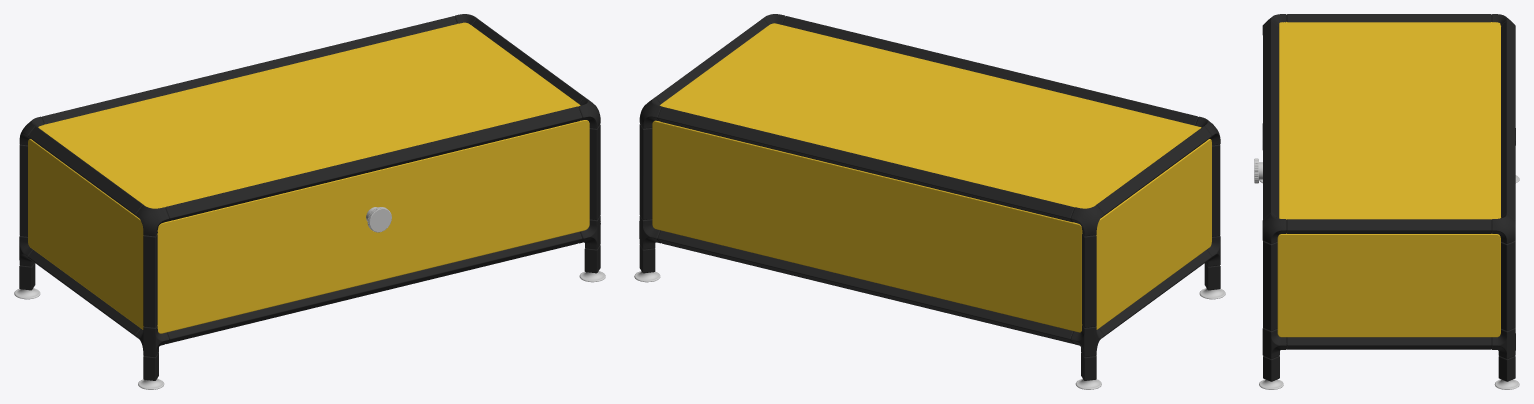
3 views of the same model, side by side, from view 1: azimuth 30°, elevation 25°; view 2: azimuth 150°, elevation 25°; view 3: azimuth 270°, elevation 25° (orthographic). The views are drawn at different scales.
Parts seen in each view (by area): view 1: 729x329x154; view 2: 729x329x154; view 3: 729x329x154.
Boxes of the visible parts, bbox=[...] form: 729x329x154: bbox=[14, 14, 605, 389]; 729x329x154: bbox=[634, 14, 1225, 389]; 729x329x154: bbox=[1254, 14, 1519, 389].
Size of the model in its own units: 0.8189 by 0.2933 by 0.4257.
